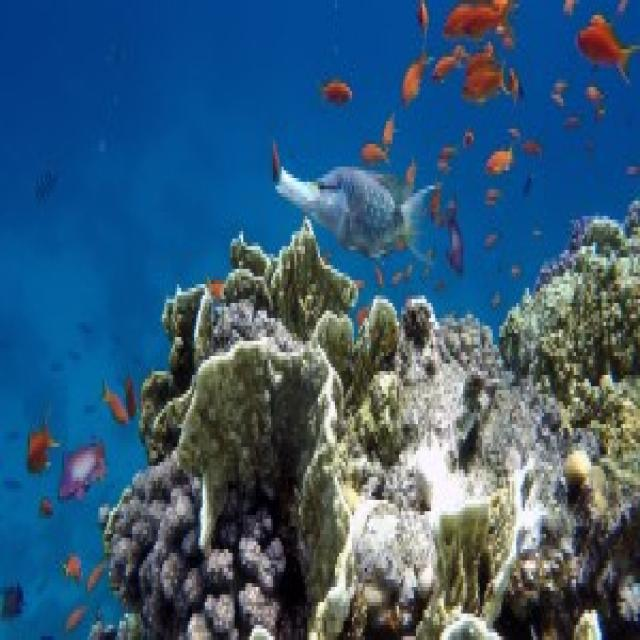Bleached: (351, 346, 496, 637), (479, 387, 554, 618)
Healthy: (140, 221, 357, 463), (180, 338, 349, 603), (500, 217, 639, 493), (106, 459, 300, 637), (315, 304, 400, 463)
